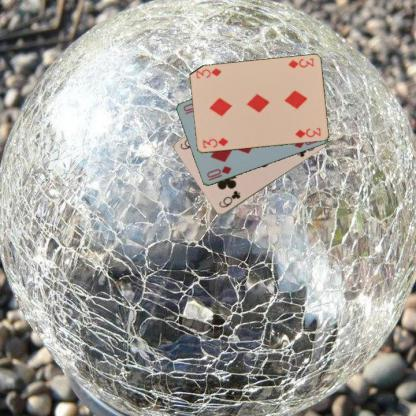10d: (204, 164, 233, 182)
3d: (285, 56, 315, 70), (200, 135, 229, 149)
6c: (217, 188, 242, 210)
